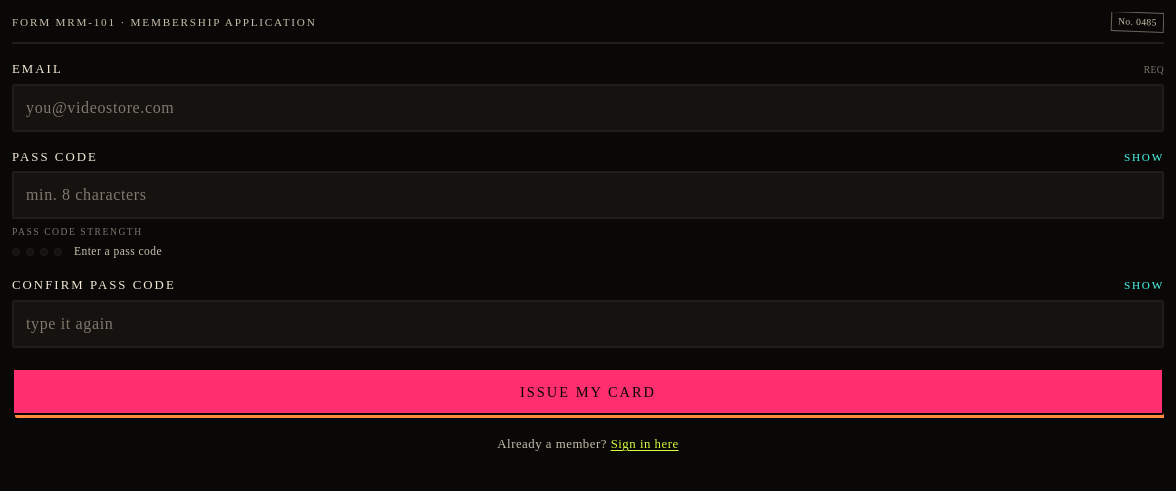
Test case: SignupForm › renders a textual confirm-match indicator (not color alone)
The width and height of the screenshot is (1176, 491).
In the password field labelled "Pass code": (588, 195) [12,171,1164,219], type "password123"
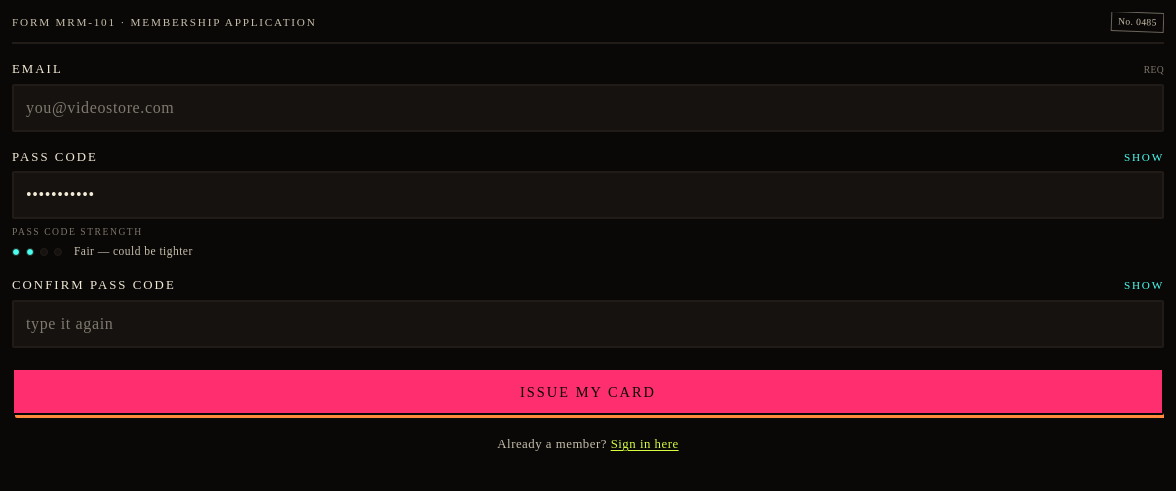
In the password field labelled "Confirm pass code": (588, 324) [12,300,1164,348], type "password123"
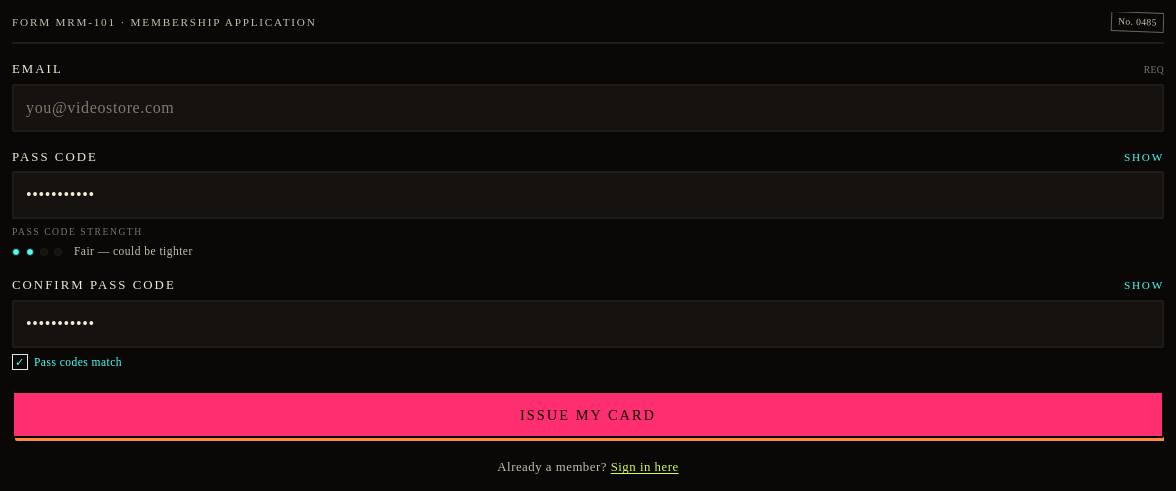
Now the text "Pass codes match" is shown, box [34,354,122,371]
In the password field labelled "Confirm pass code": (588, 324) [12,300,1164,348], type "nope"
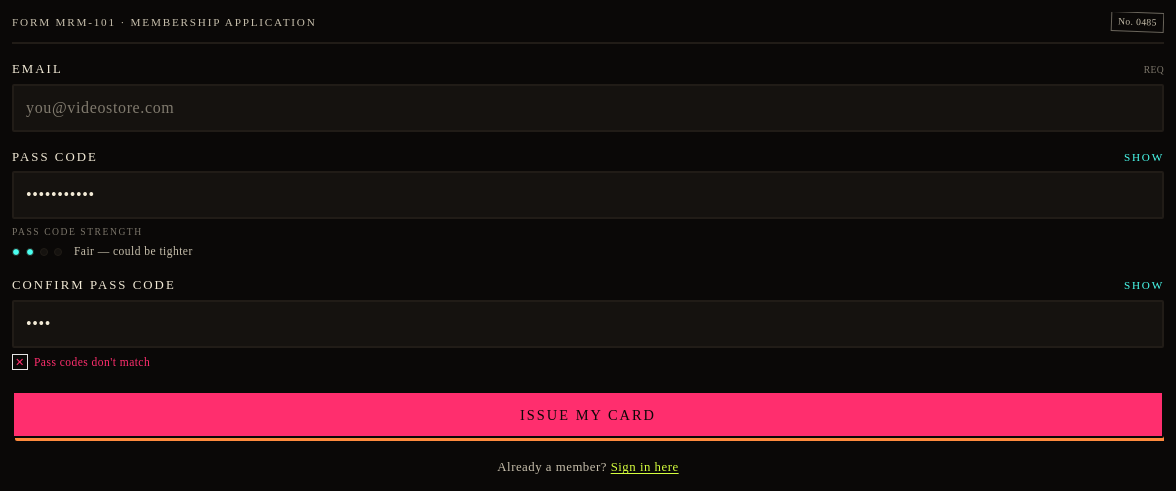
Now the text "Pass codes match" is shown, box [12,354,150,370]
Now the text "Pass codes don't match" is shown, box [34,354,150,371]
